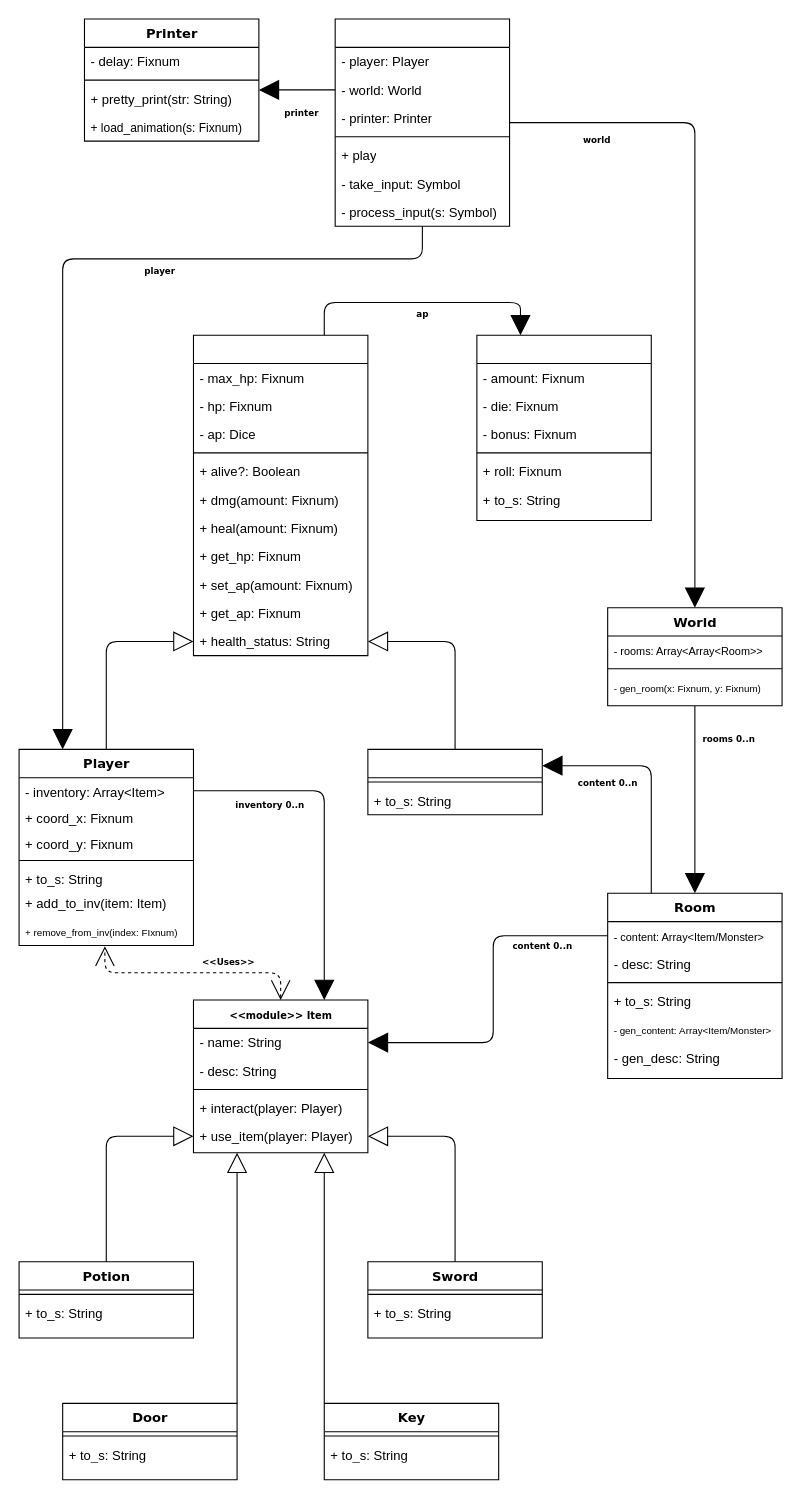
The diagram is 801 pixels wide and 1502 high, and some of its shapes have lost their labels. The box of each missing label's shape, as (x1, y1, x2, y2) in pixels:
<<module>> Creature: (192, 334, 368, 656)
Dice: (476, 334, 651, 520)
Game: (334, 18, 510, 226)
Monster: (367, 748, 542, 815)
